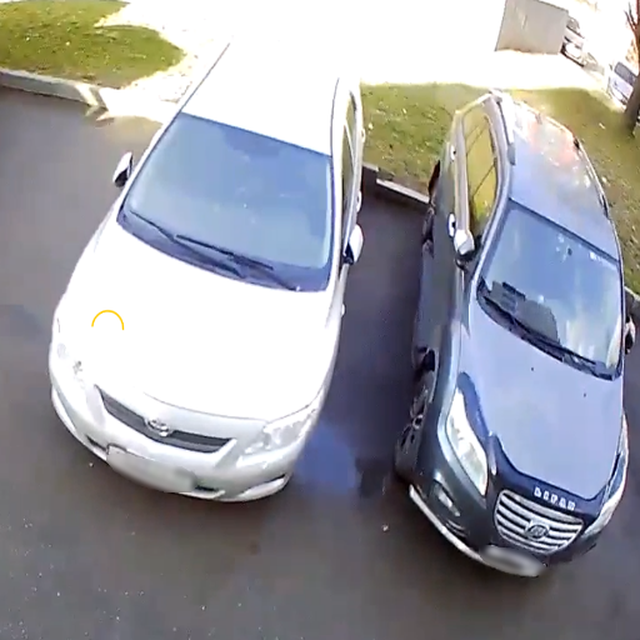car: (46, 38, 367, 503), (395, 89, 626, 574)
